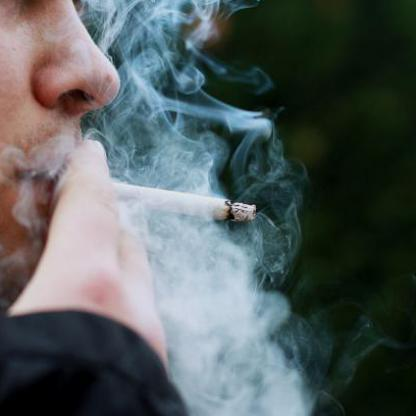cigarette: (116, 181, 257, 226)
smoke: (98, 0, 282, 188), (146, 219, 317, 412)
